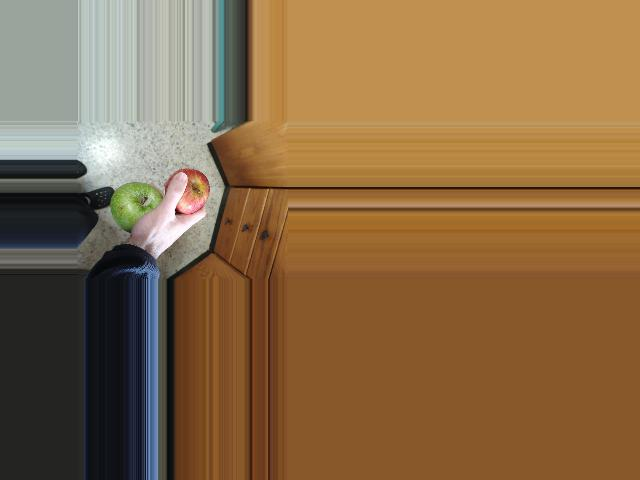apple: (106, 179, 165, 237)
